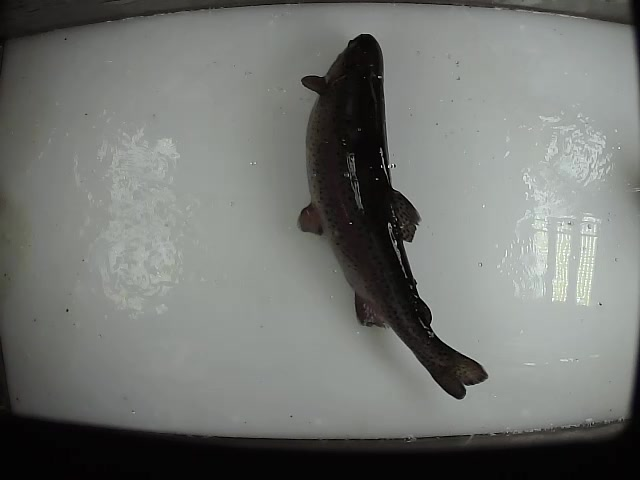fish: (299, 30, 493, 403)
